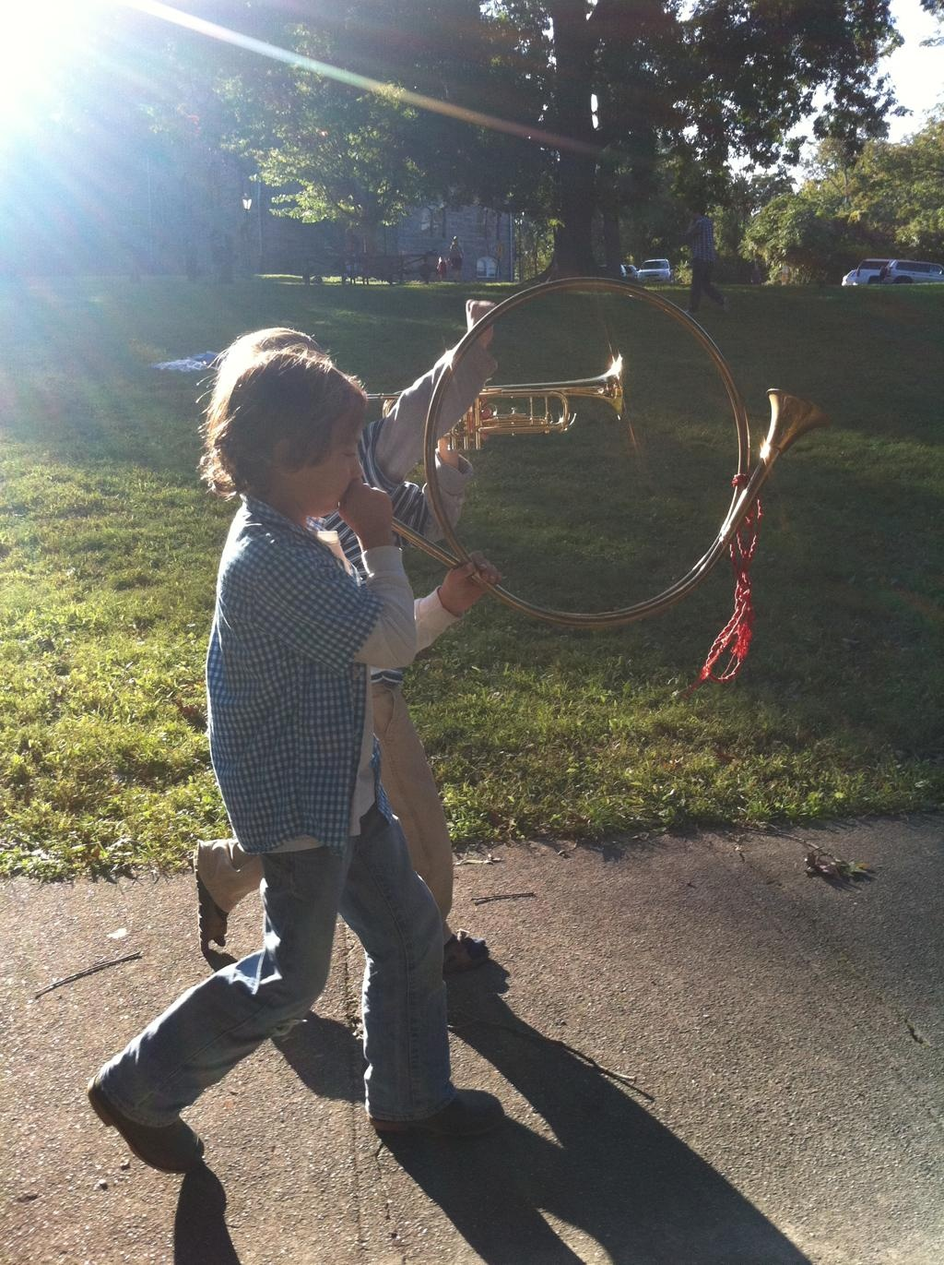human_face: (296, 398, 366, 517)
